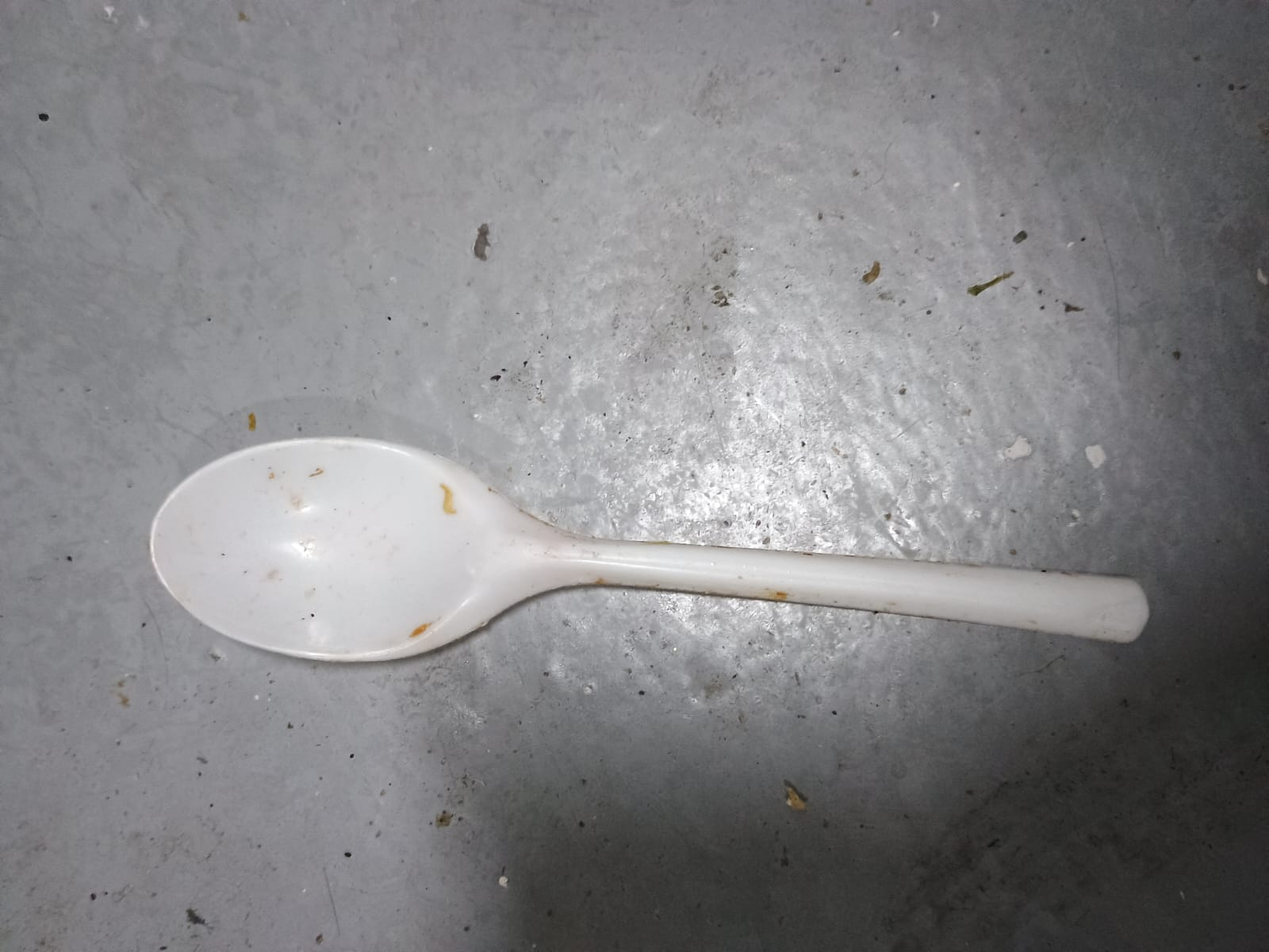Ordinario: (150, 437, 1151, 665)
